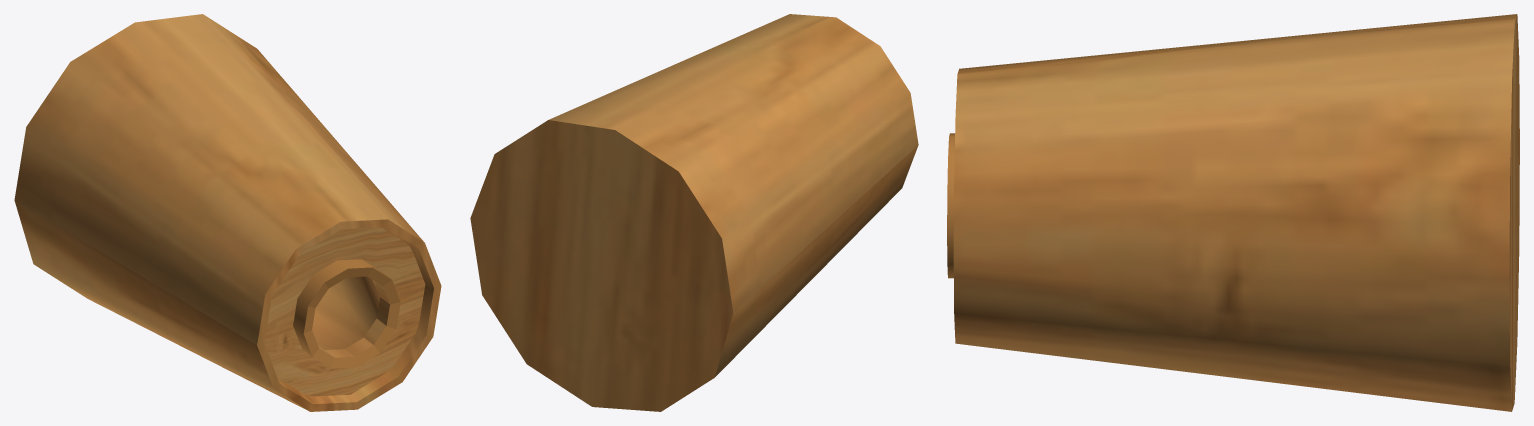
Rendered from H_ButterChurn_Bot.fbx.
3 views of the same model, side by side, from view 1: azimuth 30°, elevation 25°; view 2: azimuth 150°, elevation 25°; view 3: azimuth 270°, elevation 25° (orthographic). The views are drawn at different scales.
Parts seen in each view (by area): view 1: ButterChurn; view 2: ButterChurn; view 3: ButterChurn.
Boxes of the visible parts, box(x1,y1,x2,y2) form: ButterChurn: box(14, 14, 441, 411); ButterChurn: box(470, 14, 918, 411); ButterChurn: box(947, 14, 1519, 411).
Bounding box in the file's own units: 51.68 × 52.25 × 74.05.
